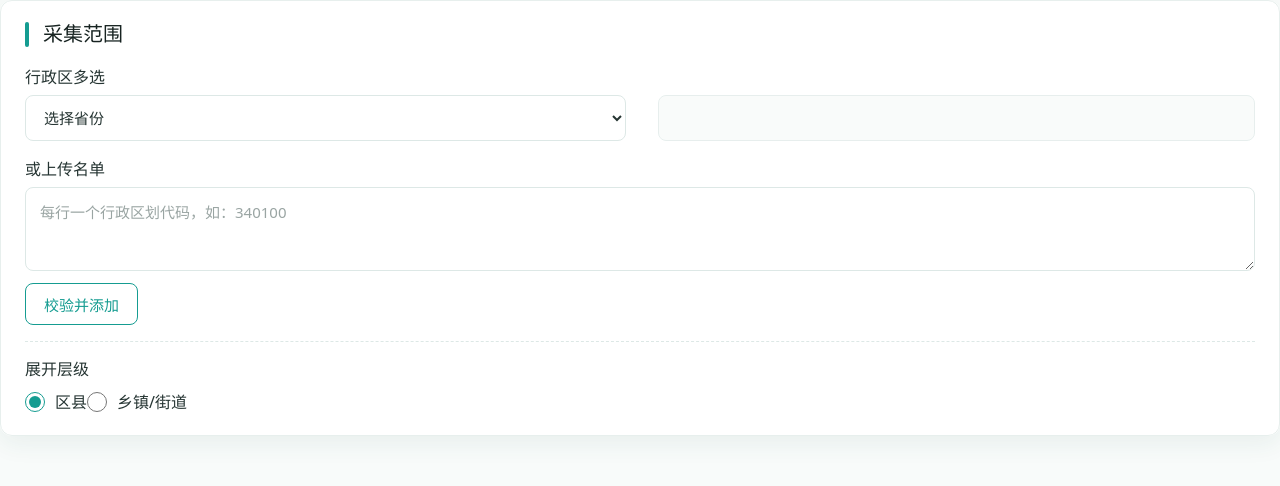
RegionPicker › 上传无效代码 → 显示错误且不展开
Type "999999" into the text box named "上传行政区代码" at point(640, 229), box [25,187,1255,271]
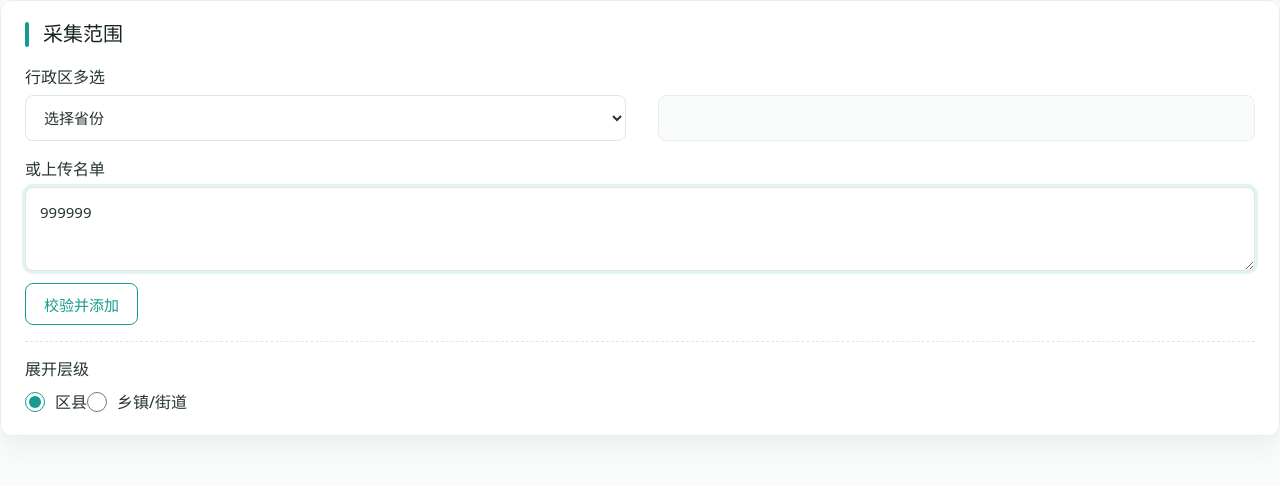
Click the button "校验并添加" at point(82, 304), box [25,283,138,325]
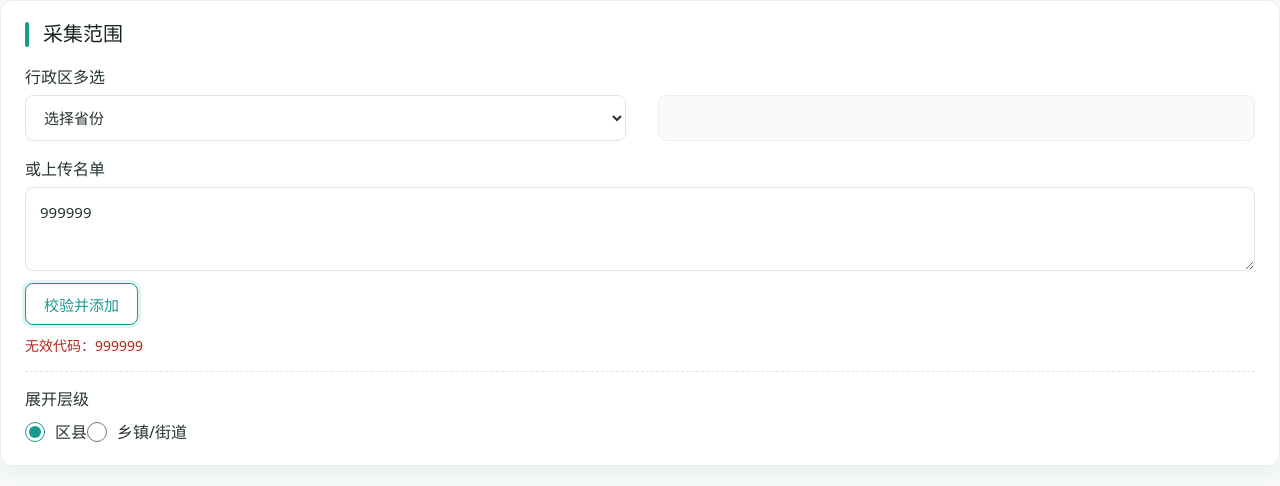
Check: the text "无效代码：999999" is shown, box [25,336,143,355]
